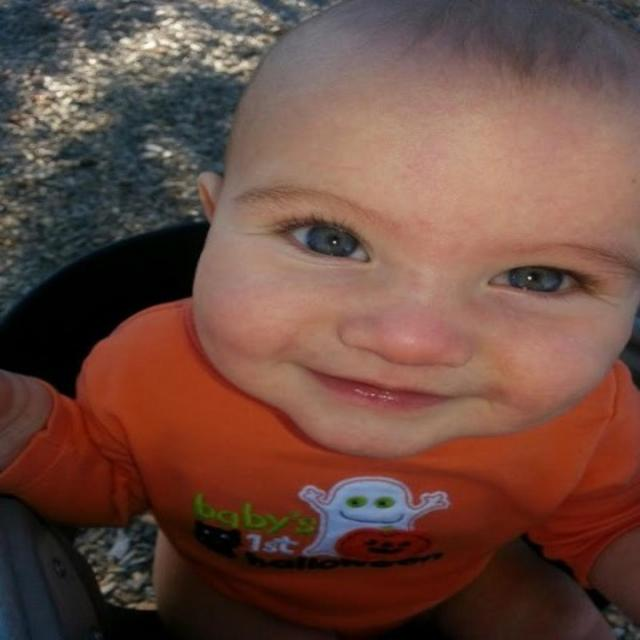Face: (232, 1, 640, 455)
